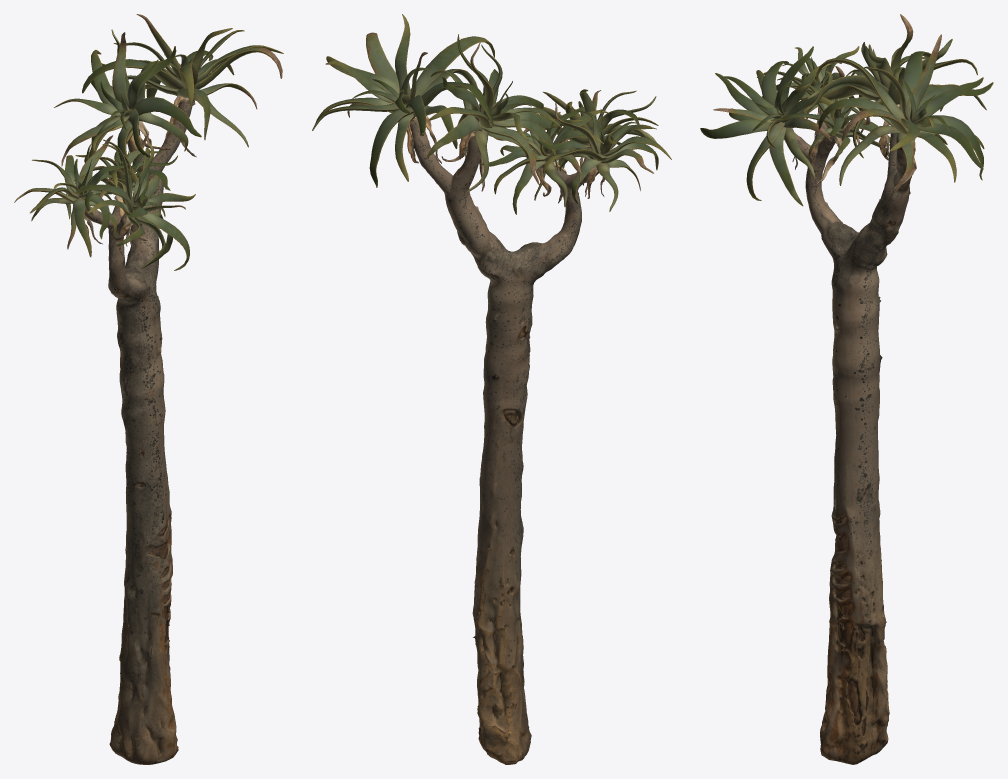
File: tree-01.glb
The picture shows the model from 3 angles, left to right: view 1: azimuth 30°, elevation 25°; view 2: azimuth 150°, elevation 25°; view 3: azimuth 270°, elevation 25°; orthographic projection. The views are drawn at different scales.
Visible parts, largest first — view 1: quiver_tree_01; view 2: quiver_tree_01; view 3: quiver_tree_01.
Part boxes in pixels (bbox=[...]): quiver_tree_01: bbox=[14, 14, 283, 764]; quiver_tree_01: bbox=[312, 14, 671, 764]; quiver_tree_01: bbox=[700, 14, 993, 764].
Bounding box in the file's own units: 1.18 × 2.72 × 0.9683.
2 materials, 2 textured.
